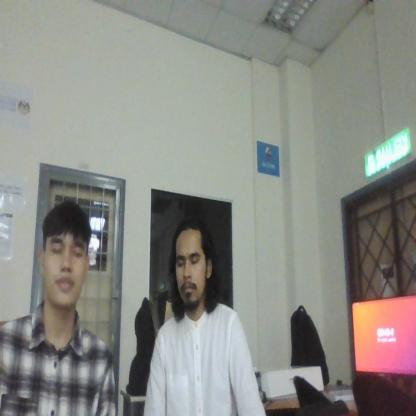Closed-Eyes: (46, 232, 84, 259), (173, 245, 203, 272)
